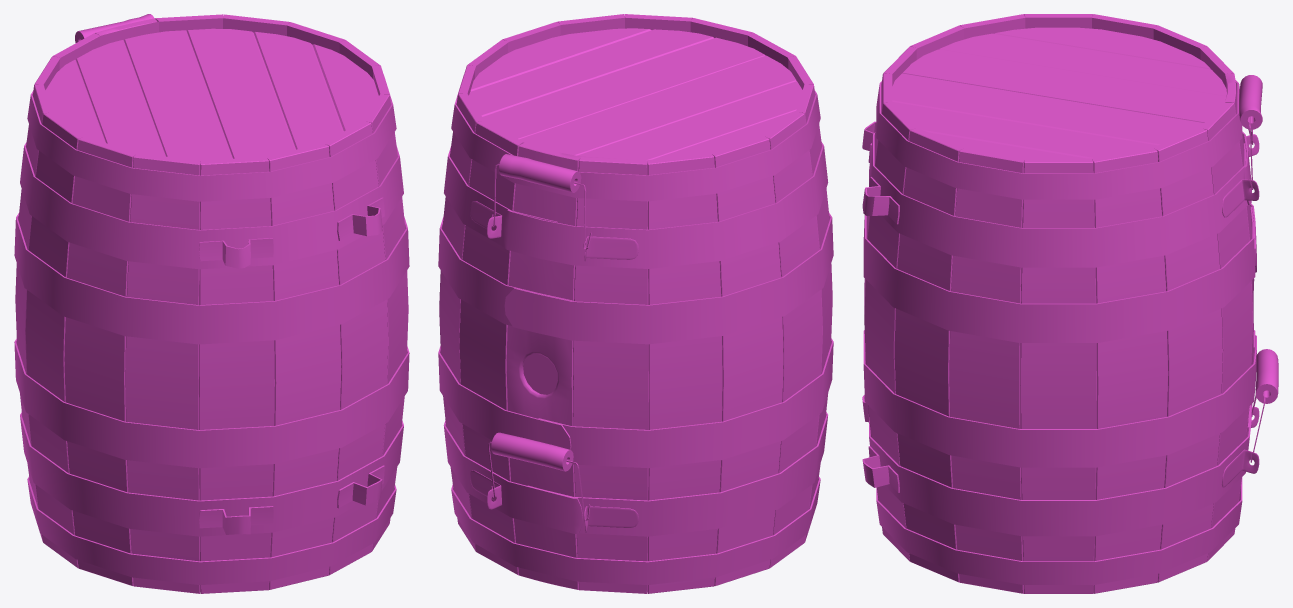
File: Barrel.fbx
3 views of the same model, side by side, from view 1: azimuth 30°, elevation 25°; view 2: azimuth 150°, elevation 25°; view 3: azimuth 270°, elevation 25° (orthographic).
Visible parts, largest first — view 1: Barrel; view 2: Barrel; view 3: Barrel.
Part boxes in pixels (x1,y1,x2,y2): Barrel: (14,14,409,593); Barrel: (438,14,833,593); Barrel: (862,14,1278,593).
Size of the model in its own units: 0.774 by 0.9449 by 0.826.
